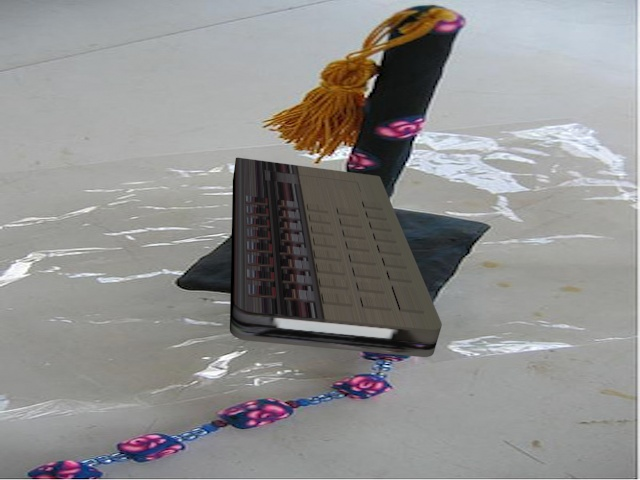calculator: (225, 153, 448, 360)
